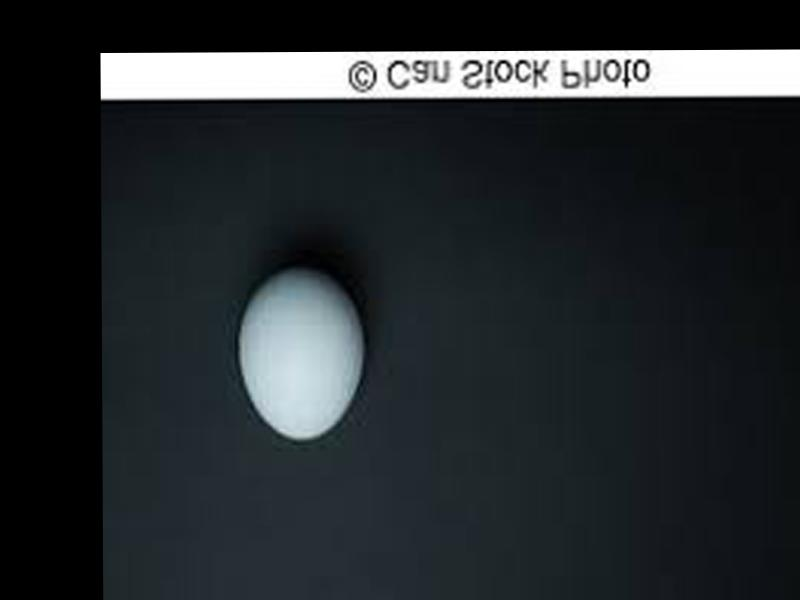Eggs: (235, 267, 363, 441)
